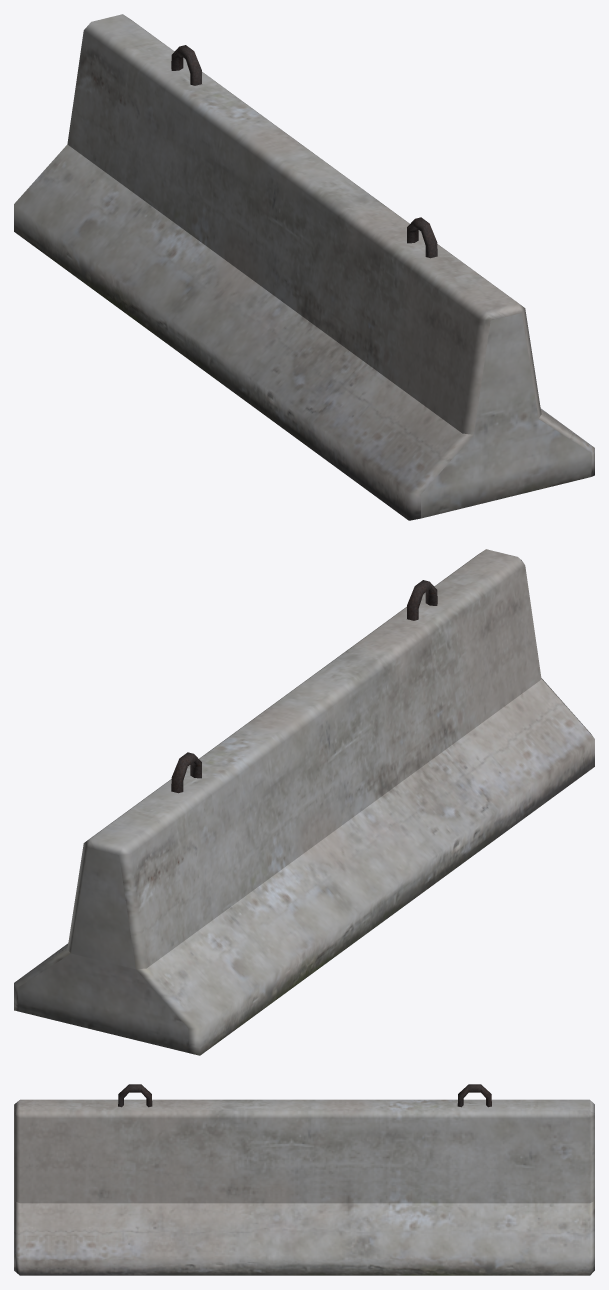
The model's file is ConcreteBarrier_A_A.fbx.
3 renders of one model, top to bottom at view 1: azimuth 30°, elevation 25°; view 2: azimuth 150°, elevation 25°; view 3: azimuth 270°, elevation 25°, orthographic. The views are drawn at different scales.
Parts seen in each view (by area): view 1: ConcreteBarrier_A_A; view 2: ConcreteBarrier_A_A; view 3: ConcreteBarrier_A_A.
Boxes of the visible parts, box(x1,y1,x2,y2) form: ConcreteBarrier_A_A: box(14, 14, 594, 520); ConcreteBarrier_A_A: box(14, 549, 594, 1055); ConcreteBarrier_A_A: box(14, 1084, 594, 1275).
Bounding box in the file's own units: 80 × 89.84 × 300.
